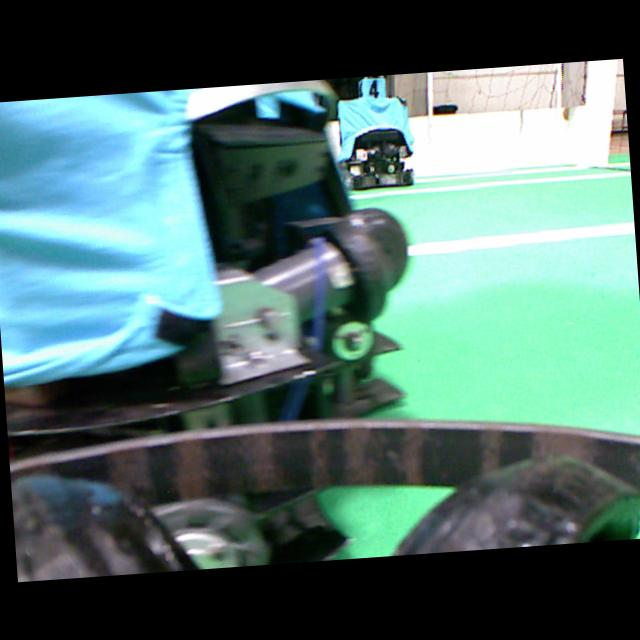goal: (585, 59, 616, 165)
